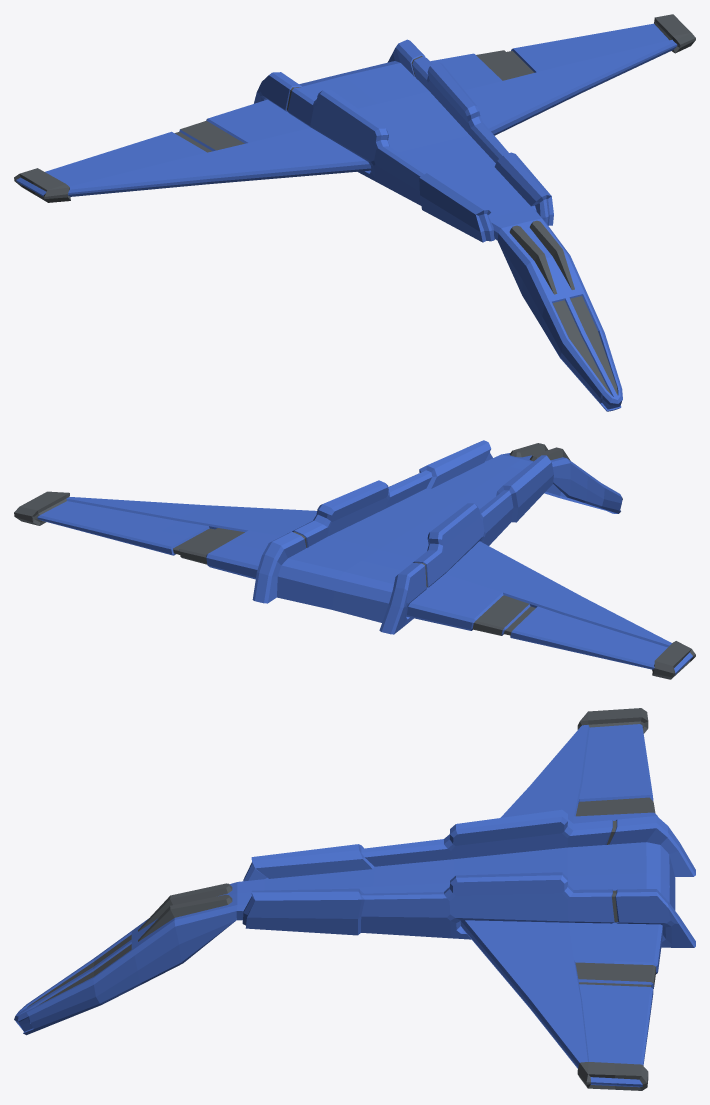
File: Fighter_04_Full_Wing_Blue.fbx
3 views of the same model, one above another, from view 1: azimuth 30°, elevation 25°; view 2: azimuth 150°, elevation 25°; view 3: azimuth 270°, elevation 25° (orthographic). The views are drawn at different scales.
Visible parts, largest first — view 1: Fighter_04_Full_Wing_Blue; view 2: Fighter_04_Full_Wing_Blue; view 3: Fighter_04_Full_Wing_Blue.
Part boxes in pixels (bbox=[...]): Fighter_04_Full_Wing_Blue: bbox=[14, 14, 695, 411]; Fighter_04_Full_Wing_Blue: bbox=[14, 440, 695, 679]; Fighter_04_Full_Wing_Blue: bbox=[14, 708, 695, 1090].
Size of the model in its own units: 1945 by 465 by 1509.
1 material, 1 textured.
